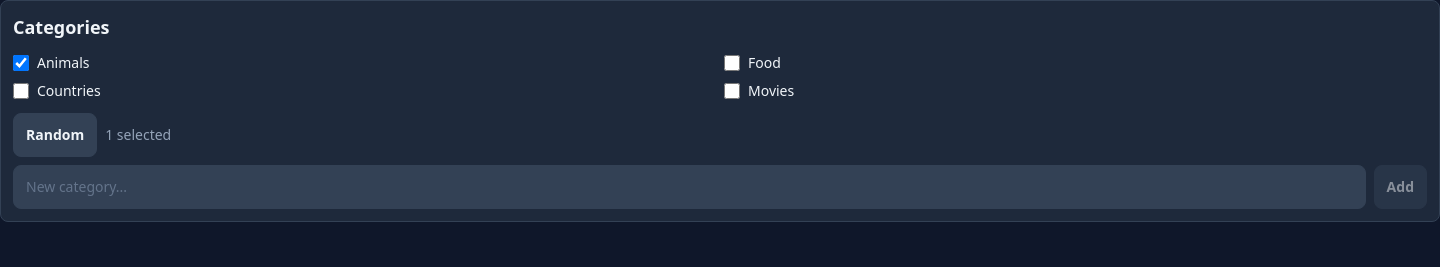
CategorySelector component › multi category mode › shows error when trying to deselect last category
Click the checkbox labelled "Animals".
click(21, 63)  # box x1=13 y1=55 x2=29 y2=71
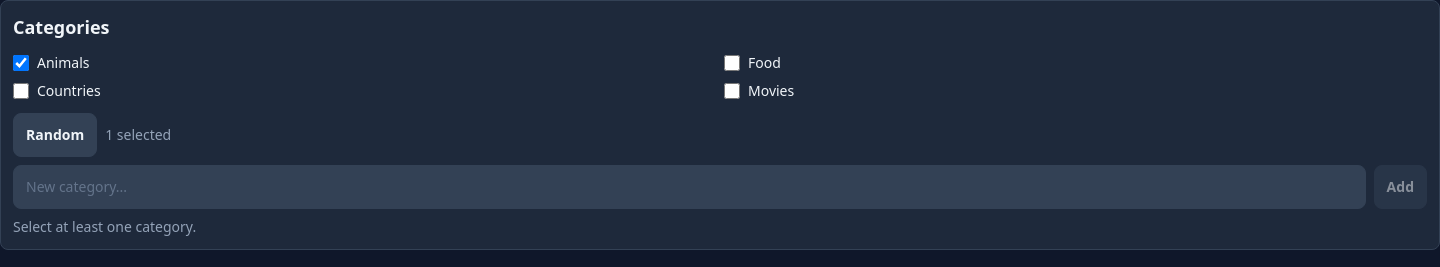
Result: the text "Select at least one category." is shown at x1=13 y1=217 x2=196 y2=236
